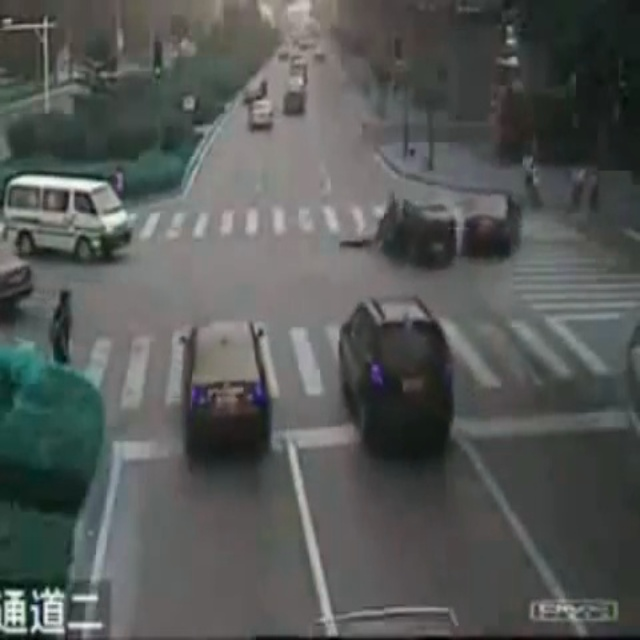acc: (378, 188, 522, 268)
